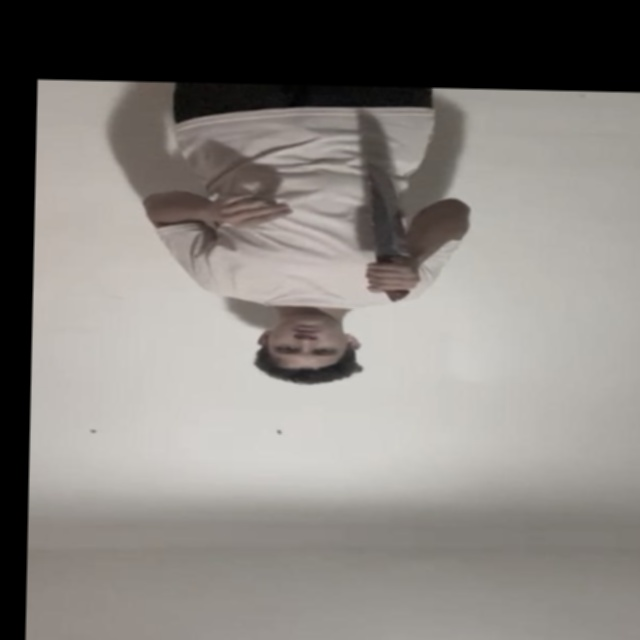Sharp-Object: (364, 168, 411, 259)
